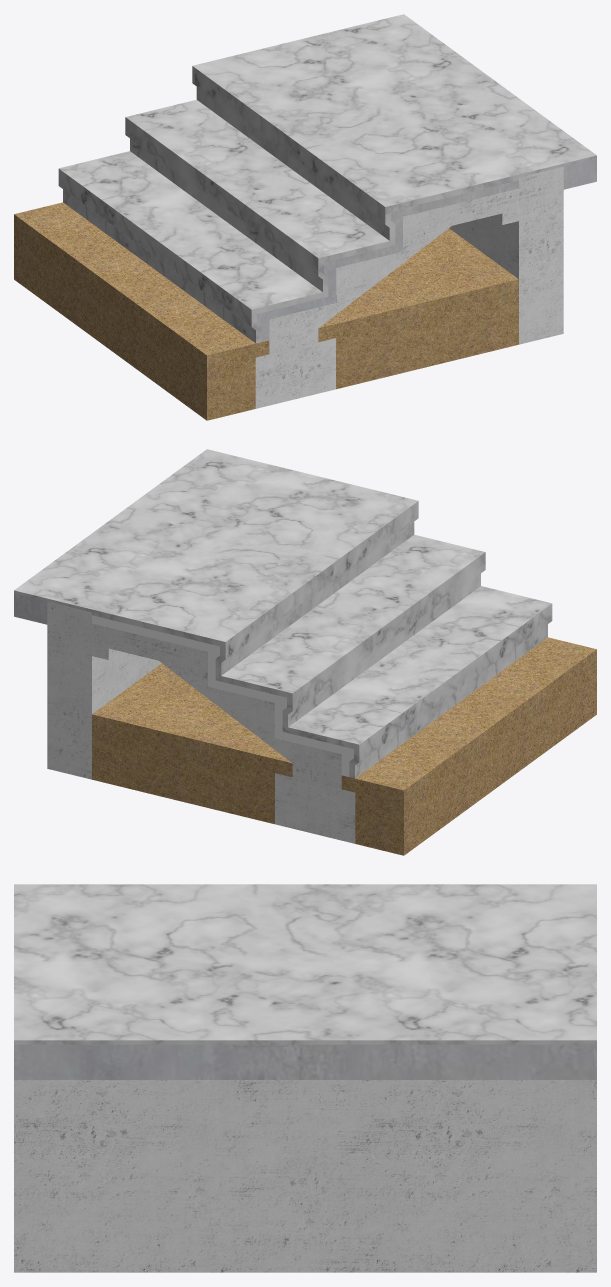
Rendered from rc-elevated-steps.glb.
The picture shows the model from 3 angles, top to bottom: view 1: azimuth 30°, elevation 25°; view 2: azimuth 150°, elevation 25°; view 3: azimuth 270°, elevation 25°; orthographic projection. The views are drawn at different scales.
Visible parts, largest first — view 1: 面层, 素土夯实, 建筑外墙, 踏步斜梁, 独立基础垫层, 钢筋混凝土踏步, 水平平台楼板; view 2: 面层, 素土夯实, 建筑外墙, 踏步斜梁, 独立基础垫层, 钢筋混凝土踏步, 水平平台楼板; view 3: 建筑外墙, 面层, 水平平台楼板.
Boxes of the visible parts, <box> form: 面层: <box>58,14,596,343</box>; 素土夯实: <box>14,202,518,420</box>; 建筑外墙: <box>449,166,563,344</box>; 踏步斜梁: <box>269,188,518,354</box>; 独立基础垫层: <box>255,338,335,408</box>; 钢筋混凝土踏步: <box>257,180,518,341</box>; 水平平台楼板: <box>563,158,596,189</box>; 面层: <box>14,449,552,778</box>; 素土夯实: <box>92,637,596,855</box>; 建筑外墙: <box>47,601,161,779</box>; 踏步斜梁: <box>92,623,341,789</box>; 独立基础垫层: <box>275,773,355,843</box>; 钢筋混凝土踏步: <box>92,615,353,776</box>; 水平平台楼板: <box>14,593,47,624</box>; 建筑外墙: <box>14,1080,596,1272</box>; 面层: <box>14,884,596,1044</box>; 水平平台楼板: <box>14,1044,596,1079</box>.
Bounding box in the file's own units: 1.75 × 0.73 × 1.5.
Materials: 8 (7 with a texture image).
